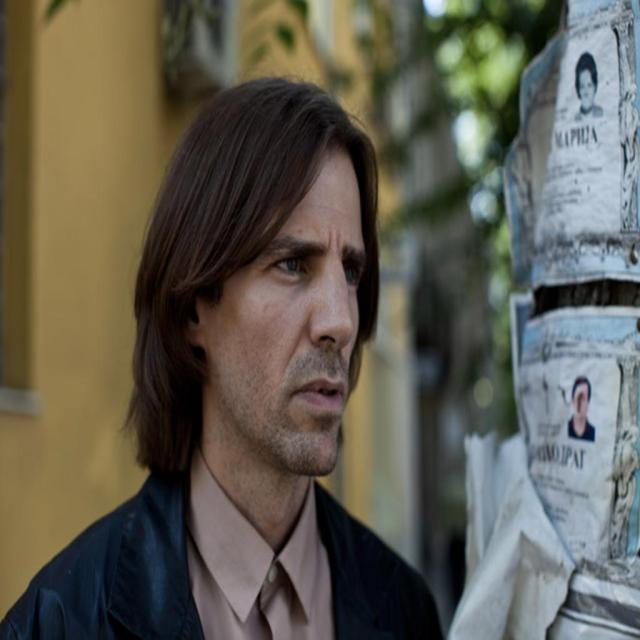Face: (243, 155, 366, 477)
